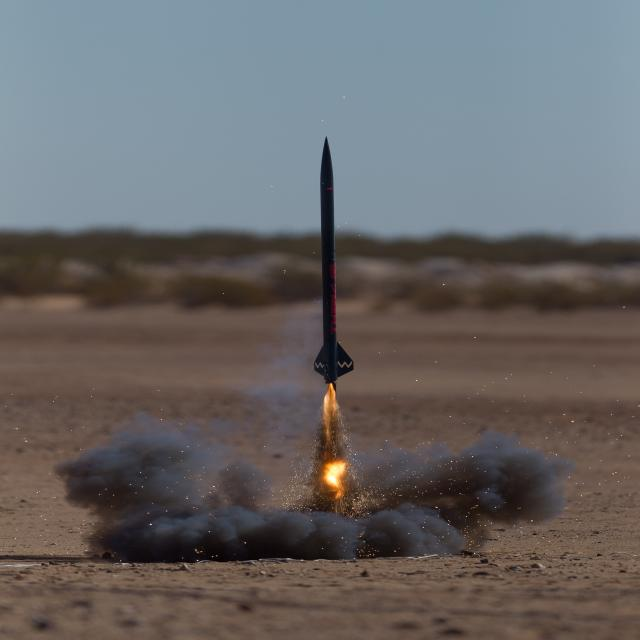Rocket: (312, 135, 356, 388)
